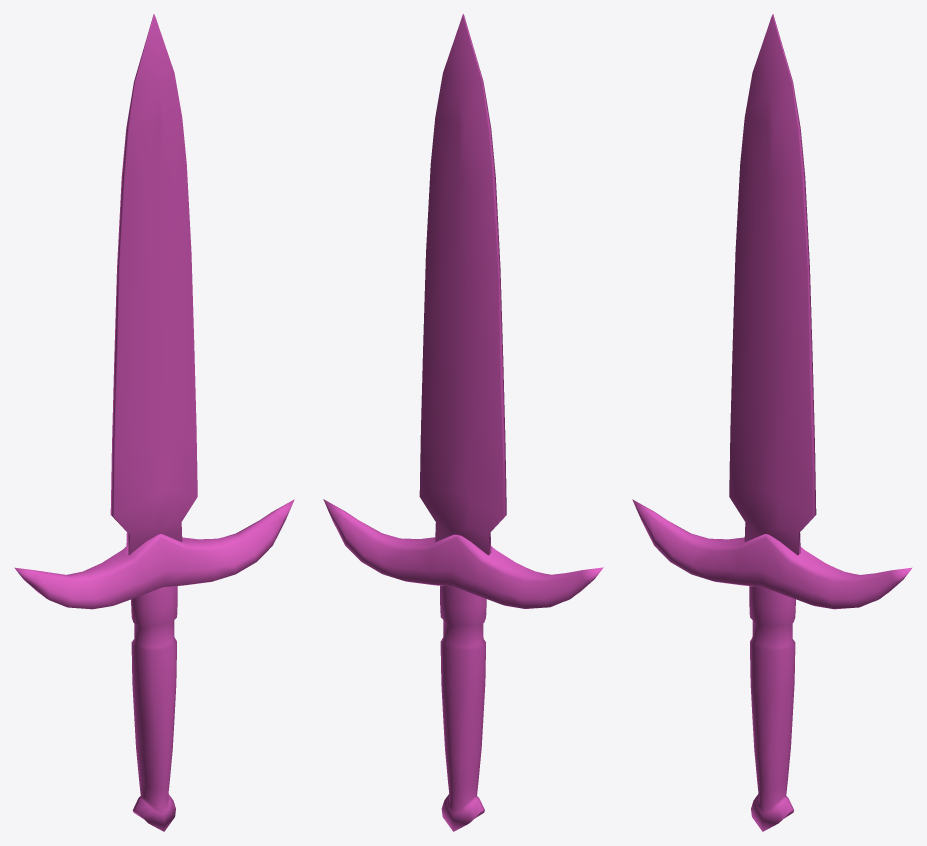
File: Knife.fbx
The picture shows the model from 3 angles, left to right: view 1: azimuth 30°, elevation 25°; view 2: azimuth 150°, elevation 25°; view 3: azimuth 330°, elevation 25°; orthographic projection.
Visible parts, largest first — view 1: _q1_low1; view 2: _q1_low1; view 3: _q1_low1.
Part boxes in pixels (left/top/right/bottom): _q1_low1: left=14, top=14, right=294, bottom=831; _q1_low1: left=323, top=14, right=603, bottom=831; _q1_low1: left=632, top=14, right=912, bottom=831.
Size of the model in its own units: 13.08 by 36.09 by 1.88.
